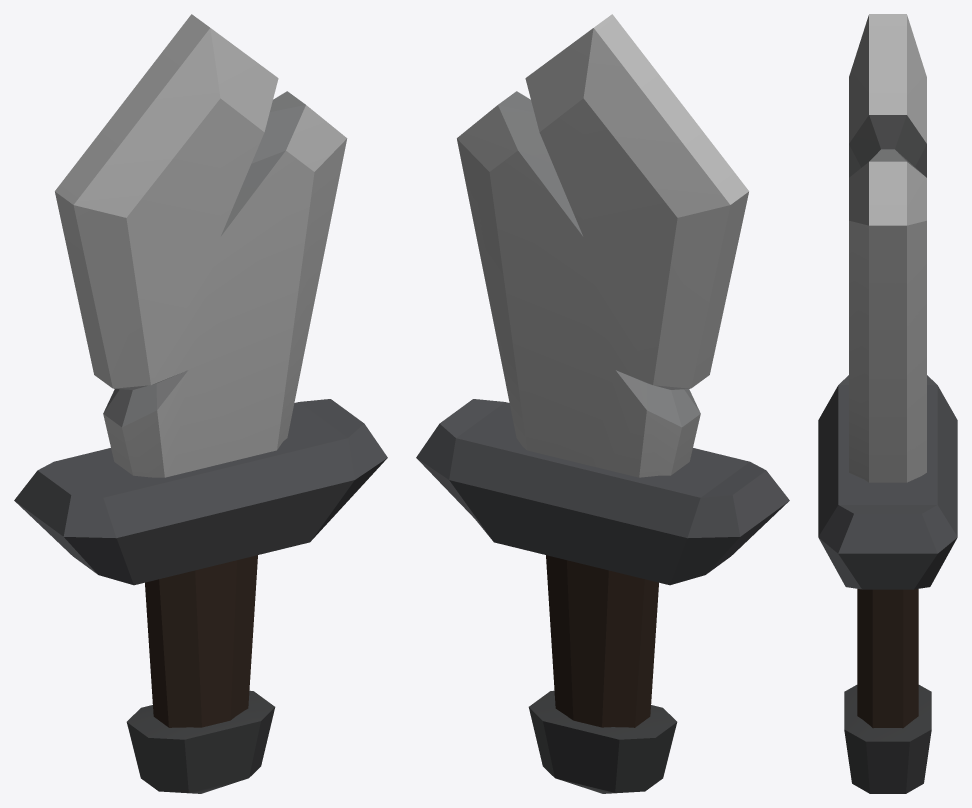
File: Sword_RHand_9.fbx
3 views of the same model, side by side, from view 1: azimuth 30°, elevation 25°; view 2: azimuth 150°, elevation 25°; view 3: azimuth 270°, elevation 25° (orthographic).
Parts seen in each view (by area): view 1: Sword_RHand_9; view 2: Sword_RHand_9; view 3: Sword_RHand_9.
Boxes of the visible parts, x1,y1,x2,y2 form: Sword_RHand_9: (14,14,387,793); Sword_RHand_9: (416,14,789,793); Sword_RHand_9: (818,14,957,793).
Bounding box in the file's own units: 29.09 × 66.27 × 10.79.
